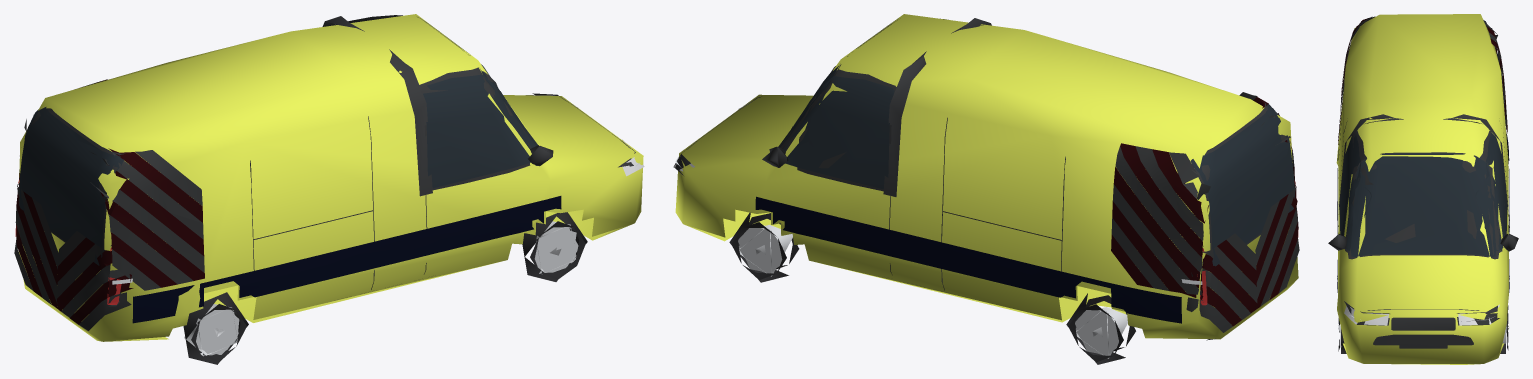
The model's file is patrol_van_ufar.glb.
The picture shows the model from 3 angles, left to right: view 1: azimuth 30°, elevation 25°; view 2: azimuth 150°, elevation 25°; view 3: azimuth 270°, elevation 25°; orthographic projection. The views are drawn at different scales.
Visible parts, largest first — view 1: Body, Blue-1, Glass-1, RearGlass, WheelFR, WheelRR, Bpillar-1, ChevS-15, ChevS-16, ChevS-18, ChevS-17, ChevS-19 (+16 smaller); view 2: Body, Blue1, RearGlass, Glass1, WheelRL, WheelFL, Bpillar1, ChevS16, ChevS15, ChevS17, ChevS18, ChevS14 (+17 smaller); view 3: Body, Windshield, WsFrame, Glass-1, Glass1, Intake, Grille, HeadReflector, HeadBezel, WinFrame-1, WinFrame1, Bpillar1 (+5 smaller).
Boxes of the visible parts, left/top/right/bottom form: Body: left=18, top=14, right=643, bottom=341; Blue-1: left=132, top=196, right=561, bottom=323; Glass-1: left=423, top=74, right=535, bottom=188; RearGlass: left=18, top=107, right=123, bottom=265; WheelFR: left=522, top=212, right=587, bottom=281; WheelRR: left=183, top=292, right=248, bottom=364; Bpillar-1: left=389, top=49, right=432, bottom=196; ChevS-15: left=100, top=192, right=204, bottom=280; ChevS-16: left=90, top=181, right=204, bottom=272; ChevS-18: left=89, top=151, right=203, bottom=239; ChevS-17: left=108, top=165, right=204, bottom=256; ChevS-19: left=108, top=148, right=202, bottom=222; Body: left=675, top=14, right=1298, bottom=339; Blue1: left=755, top=196, right=1181, bottom=323; RearGlass: left=1190, top=104, right=1294, bottom=266; Glass1: left=783, top=76, right=894, bottom=189; WheelRL: left=1066, top=293, right=1135, bottom=364; WheelFL: left=729, top=212, right=799, bottom=282; Bpillar1: left=883, top=51, right=926, bottom=196; ChevS16: left=1115, top=146, right=1202, bottom=273; ChevS15: left=1120, top=143, right=1202, bottom=257; ChevS17: left=1113, top=167, right=1201, bottom=290; ChevS18: left=1112, top=184, right=1201, bottom=295; ChevS14: left=1135, top=146, right=1203, bottom=240; Body: left=1336, top=14, right=1508, bottom=364; Windshield: left=1350, top=153, right=1496, bottom=256; WsFrame: left=1348, top=152, right=1498, bottom=259; Glass-1: left=1339, top=134, right=1371, bottom=250; Glass1: left=1475, top=133, right=1507, bottom=250; Intake: left=1373, top=334, right=1473, bottom=345; Grille: left=1391, top=317, right=1455, bottom=330; HeadReflector: left=1344, top=304, right=1499, bottom=325; HeadBezel: left=1344, top=301, right=1499, bottom=325; WinFrame-1: left=1340, top=130, right=1373, bottom=252; WinFrame1: left=1479, top=130, right=1506, bottom=252; Bpillar1: left=1443, top=114, right=1507, bottom=209.
Size of the model in its own units: 5.62 by 2.31 by 2.14.
